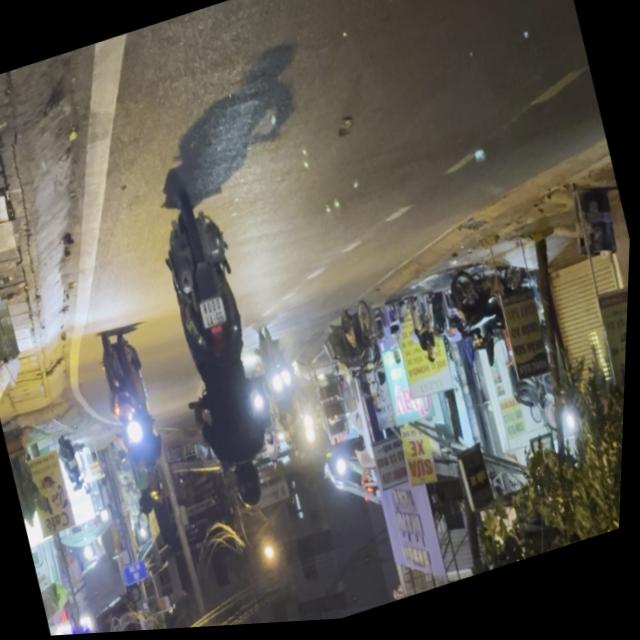licenseplate: (140, 195, 305, 529)
motorcyclist: (233, 460, 274, 516)
nohelmet: (201, 297, 230, 331)
